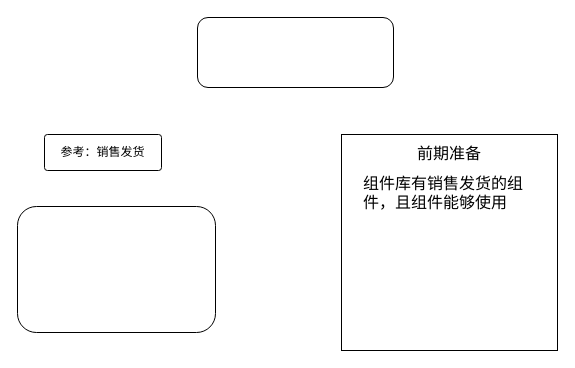
Image size: 575x368. Some labels were removed from this diagram. The box of each missing label's shape, as (x1, y1, x2, y2) in pixels:
1. 组件库具备销售发货单搜索框 2. 后端具备动态数据 3. 修改按钮--> 打开弹窗 4. 调取接口: (16, 206, 216, 332)
Micro修改销售退货: (196, 16, 394, 88)
